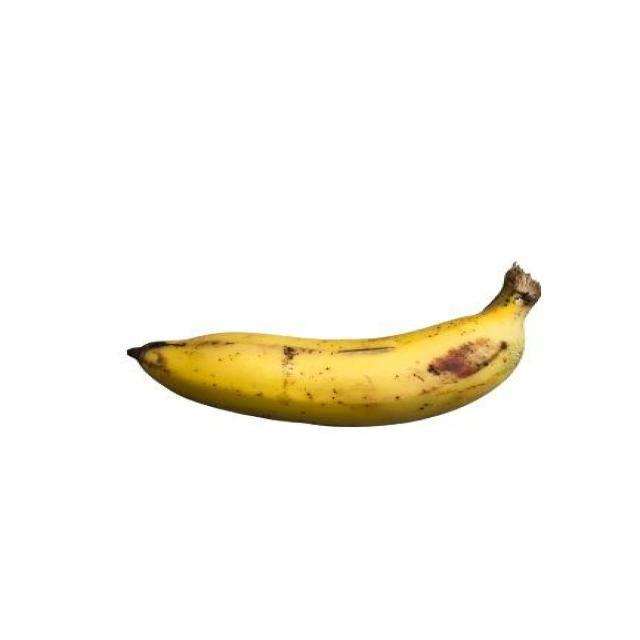banana: (121, 309, 529, 430)
